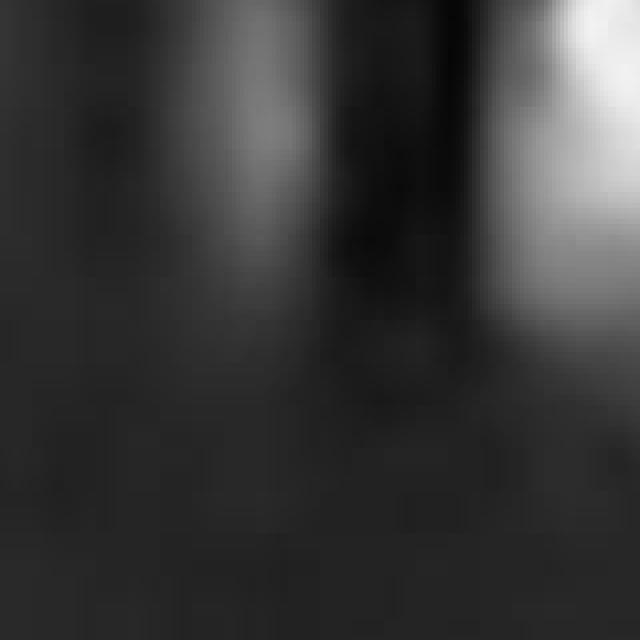person: (153, 1, 337, 326), (489, 1, 640, 396)
